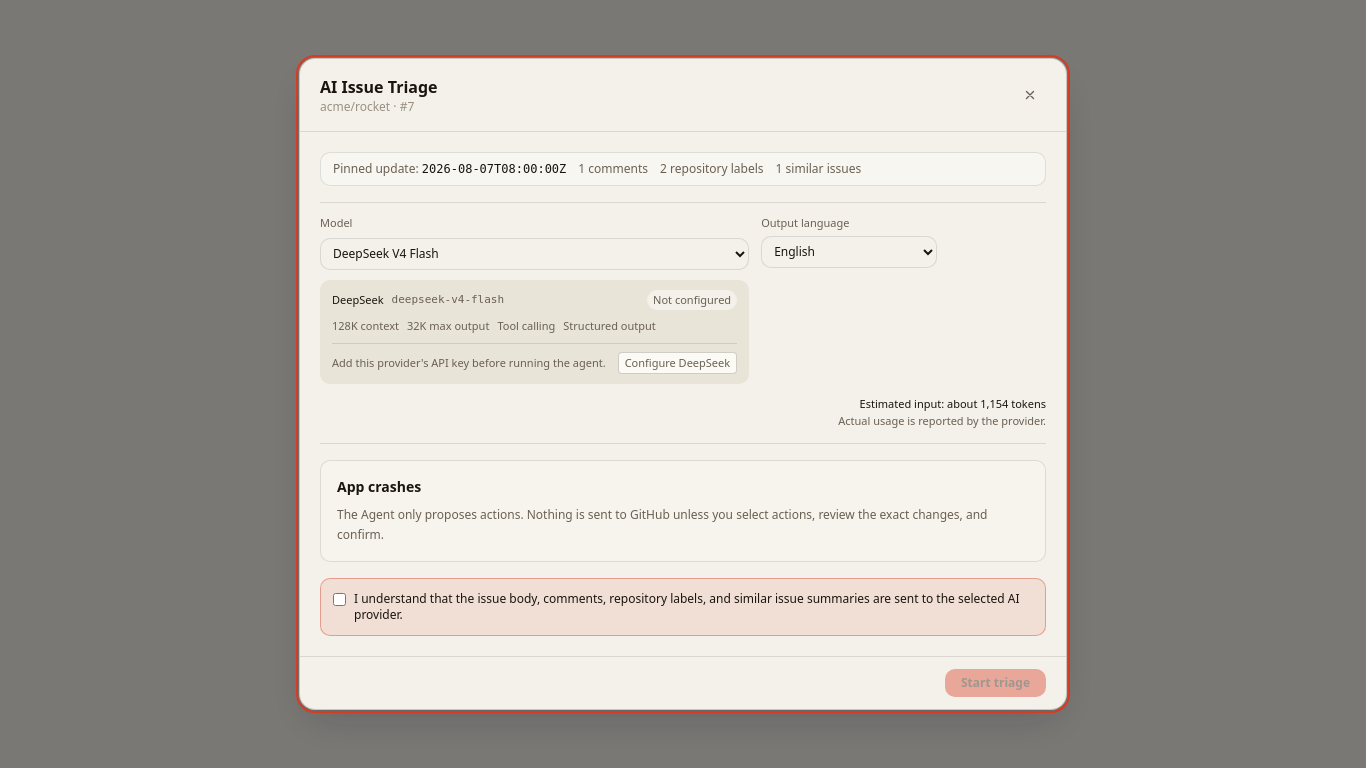
IssueTriageWorkspace › requires consent, pins the issue snapshot, and renders suggestions without a write action
expect the button "Start triage" is disabled: met, box x1=945 y1=669 x2=1046 y2=697
Click the checkbox labelled "I understand" at (340, 600), box x1=333 y1=593 x2=346 y2=606
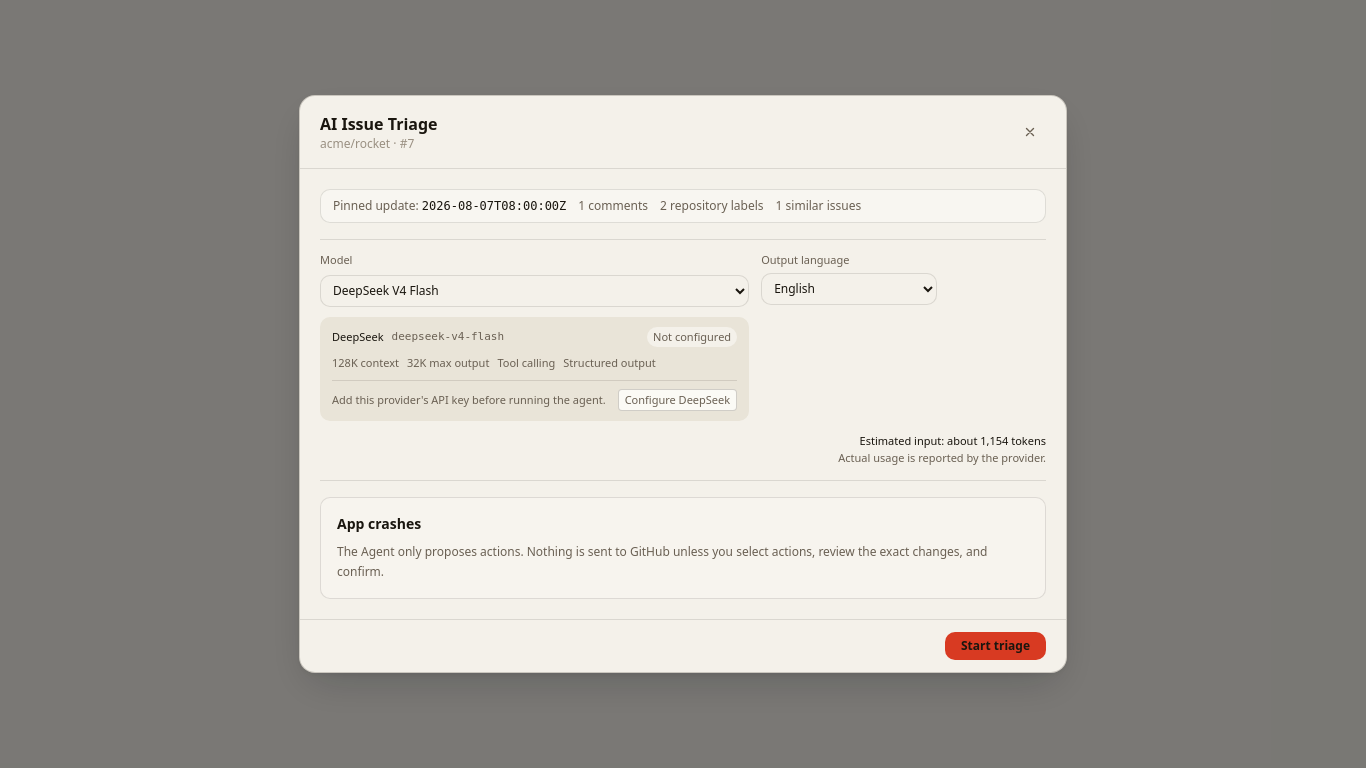
expect the button "Start triage" is enabled: met
Click the button "Start triage" at (995, 646), box x1=945 y1=632 x2=1046 y2=660
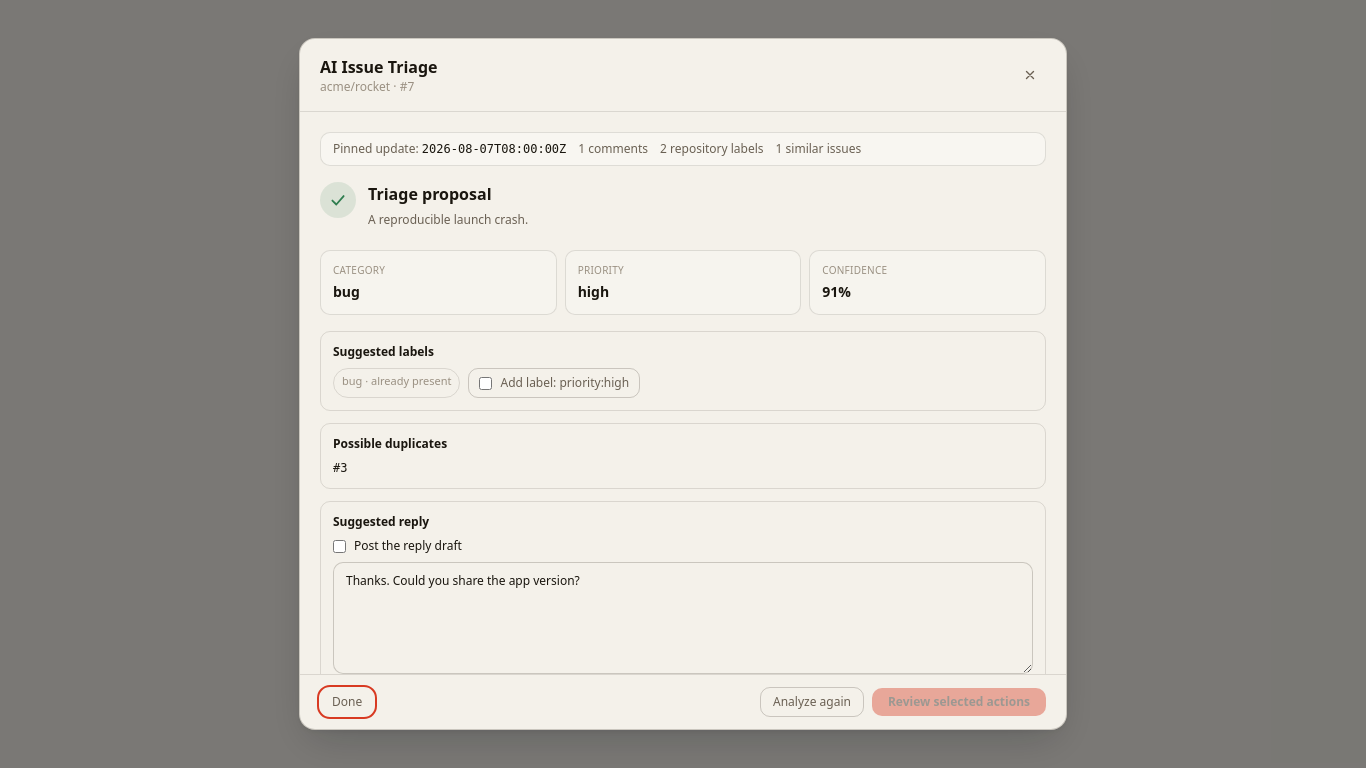
expect the text "A reproducible launch crash." is shown: met, box x1=368 y1=210 x2=528 y2=230
expect the text "91%" is shown: met, box x1=822 y1=282 x2=851 y2=301
expect the text "#3" is shown: met, box x1=333 y1=461 x2=348 y2=475
